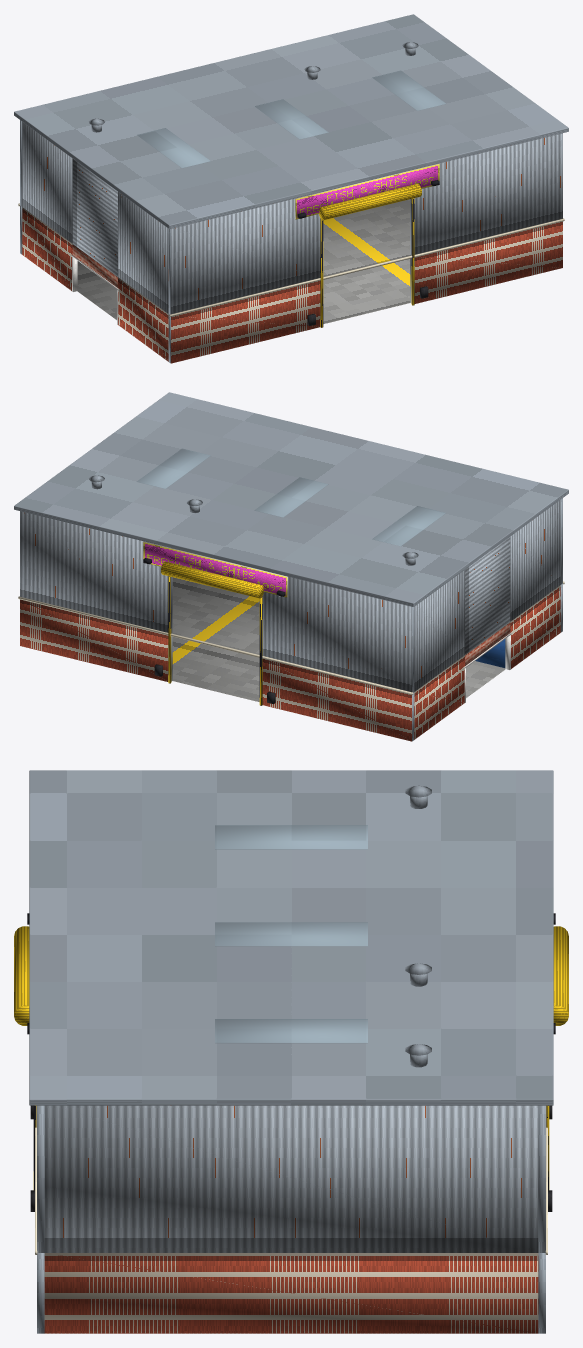
The model's file is p_pj_shed_fish.glb.
3 renders of one model, top to bottom at view 1: azimuth 30°, elevation 25°; view 2: azimuth 150°, elevation 25°; view 3: azimuth 270°, elevation 25°, orthographic. The views are drawn at different scales.
Visible parts, largest first — view 1: p_pj_shed_fish_lod0; view 2: p_pj_shed_fish_lod0; view 3: p_pj_shed_fish_lod0.
Boxes of the visible parts, box(x1,y1,x2,y2) form: p_pj_shed_fish_lod0: box(14, 14, 568, 363); p_pj_shed_fish_lod0: box(14, 392, 568, 741); p_pj_shed_fish_lod0: box(14, 770, 568, 1333).
Size of what is drawn, in the model's own units: 30.6 by 11.15 by 21.8.
3 materials, 1 textured.
